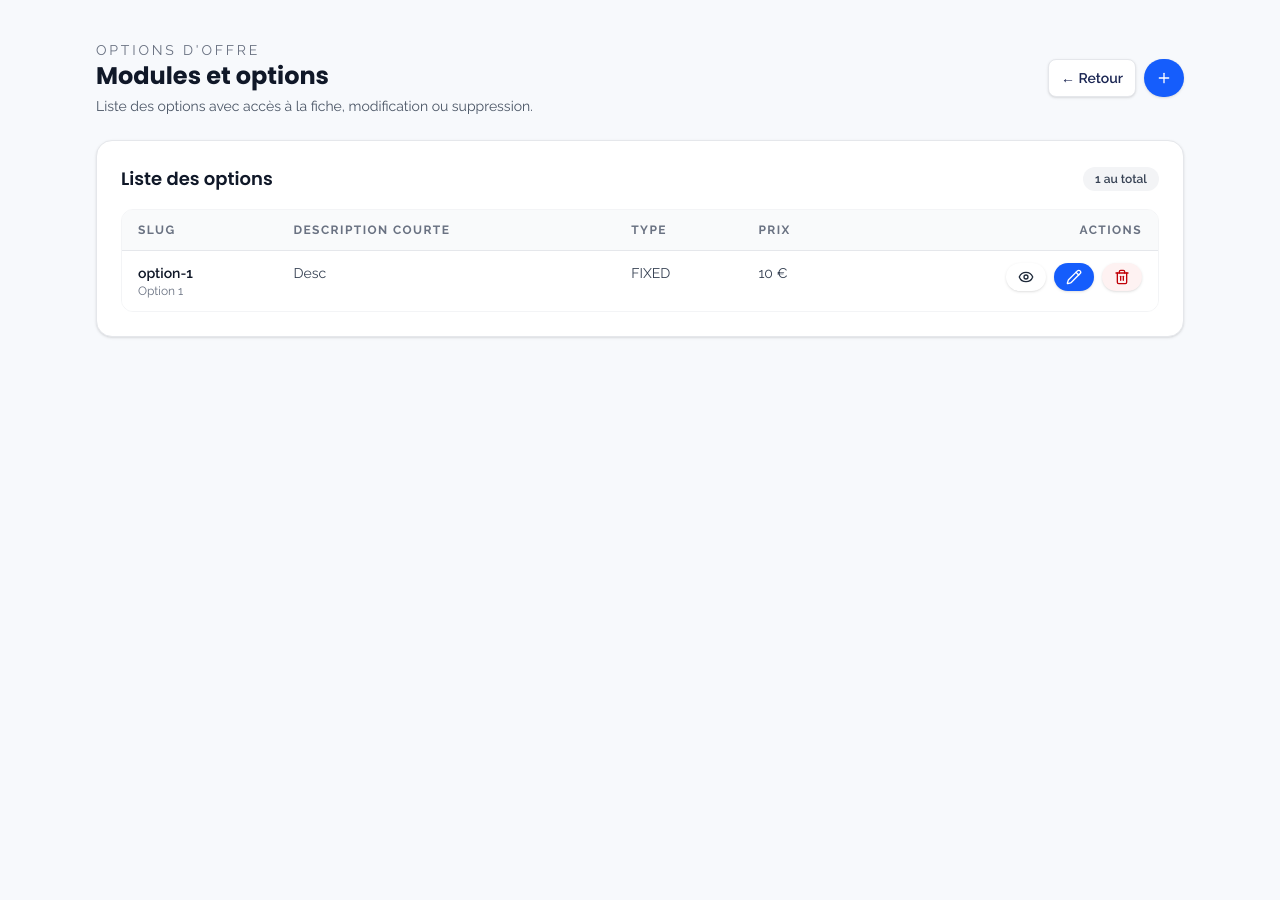
it: ConfirmModal delete flows across dashboard lists › offer options list uses confirm modal and closes on delete
Click the button named "supprimer" at {"x": 1122, "y": 277}, box [1102,263,1142,291]
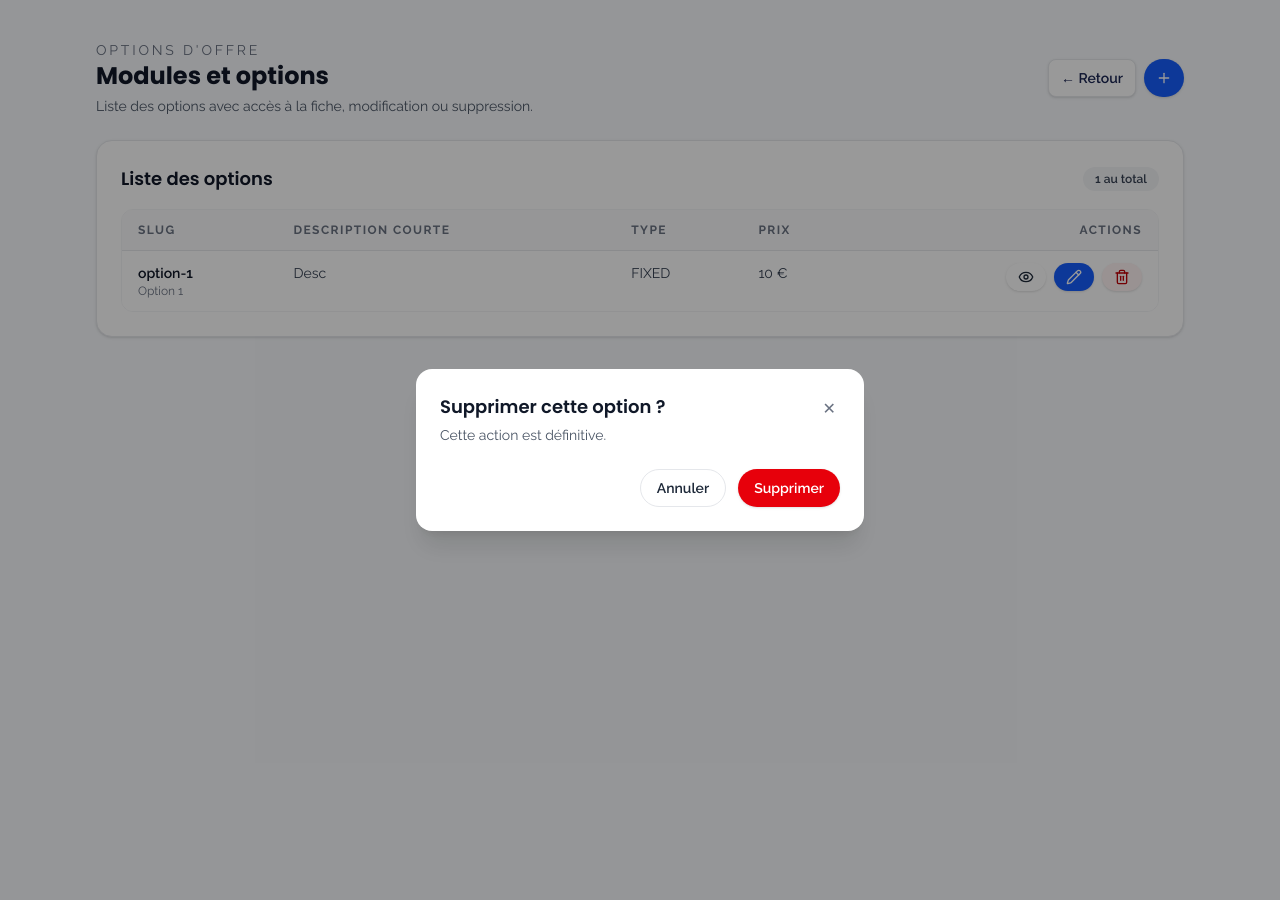
expect the heading "Supprimer cette option ?" is shown: met, box [440,393,665,421]
Click the button "Supprimer" at {"x": 789, "y": 488}, box [738,469,840,507]
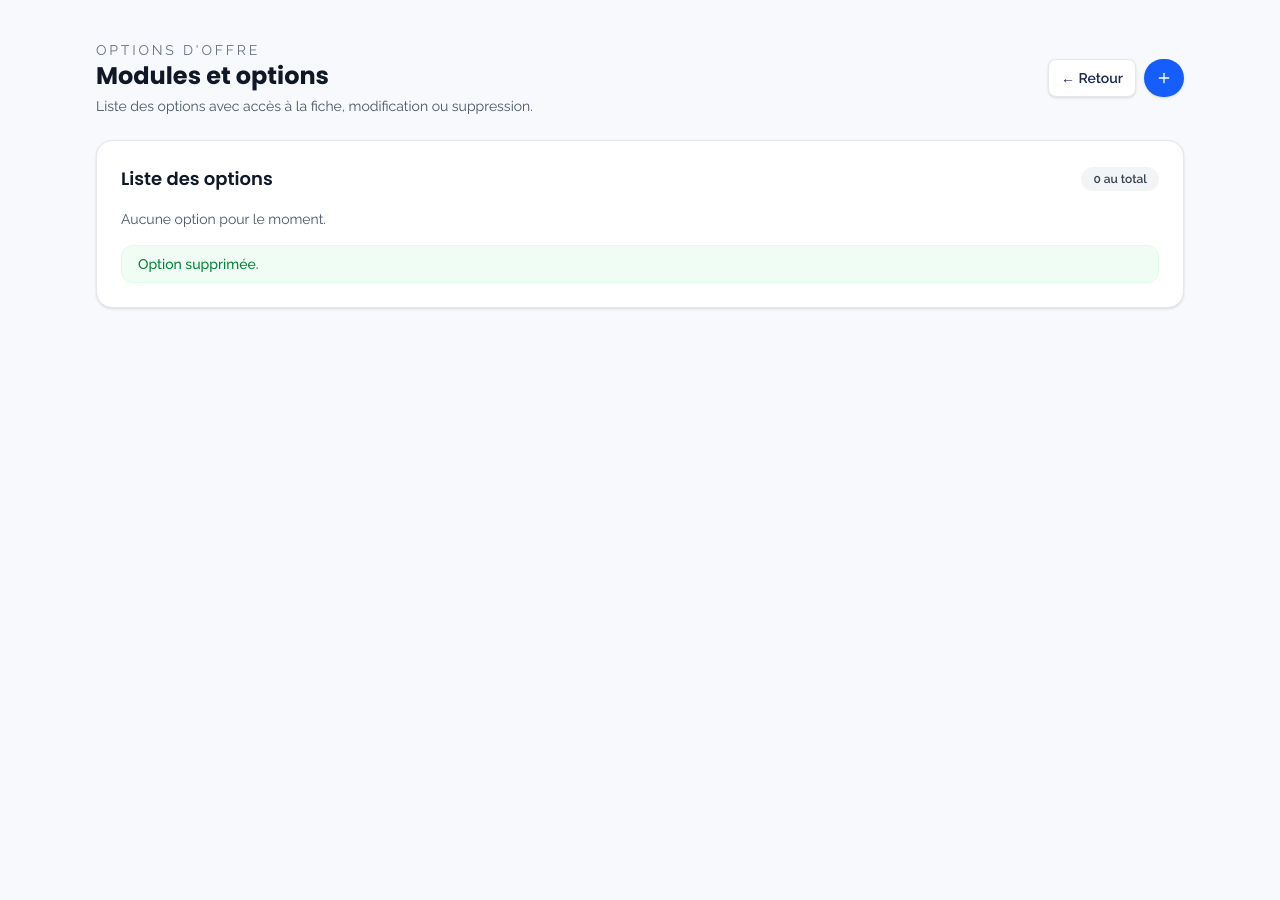
expect the heading "Supprimer cette option" is gone: met
